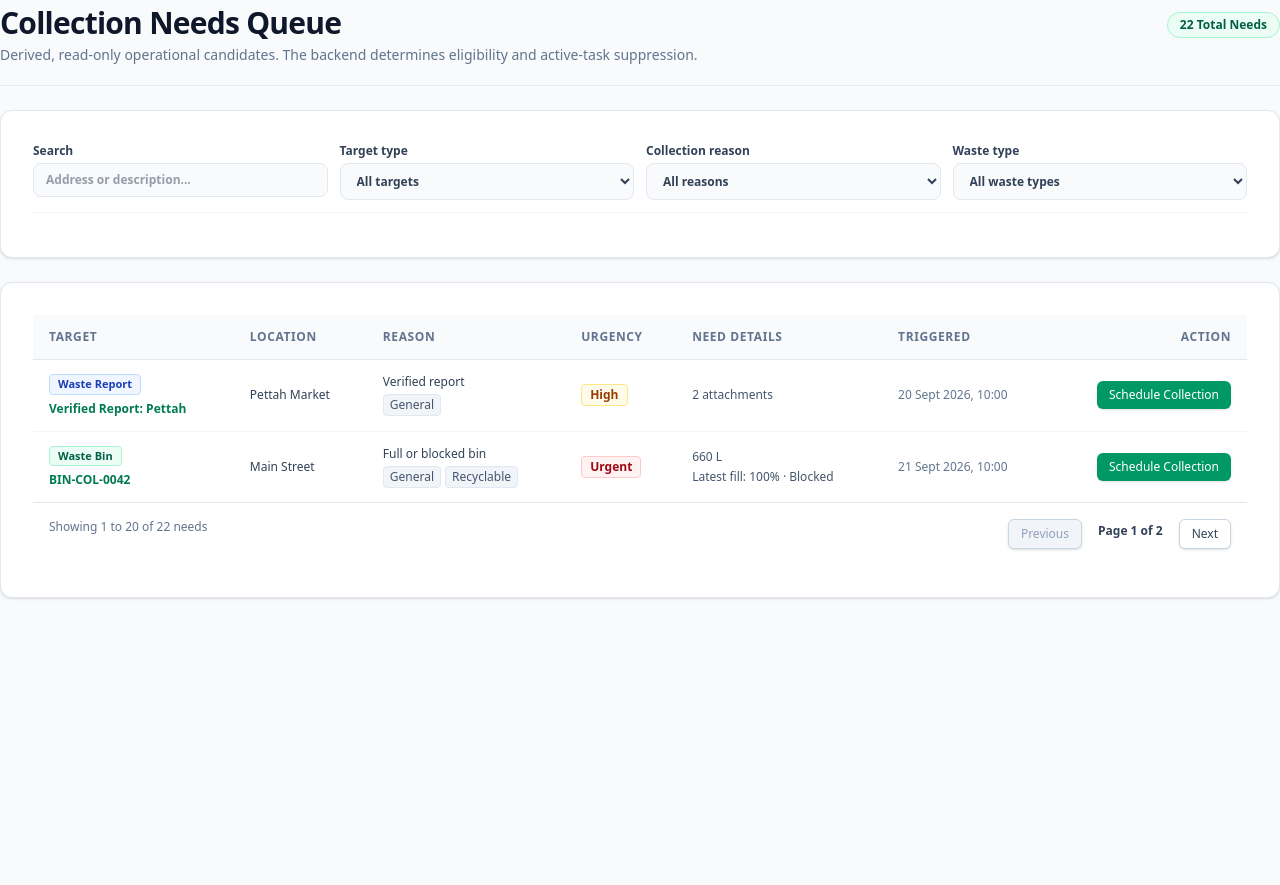
it: CollectionNeedsPage › shows schedule controls only to WasteOfficer and submits a selected bin target in UTC
Click the button with test id "schedule-need-bin-1" at (1164, 467), box [1097,453,1231,481]
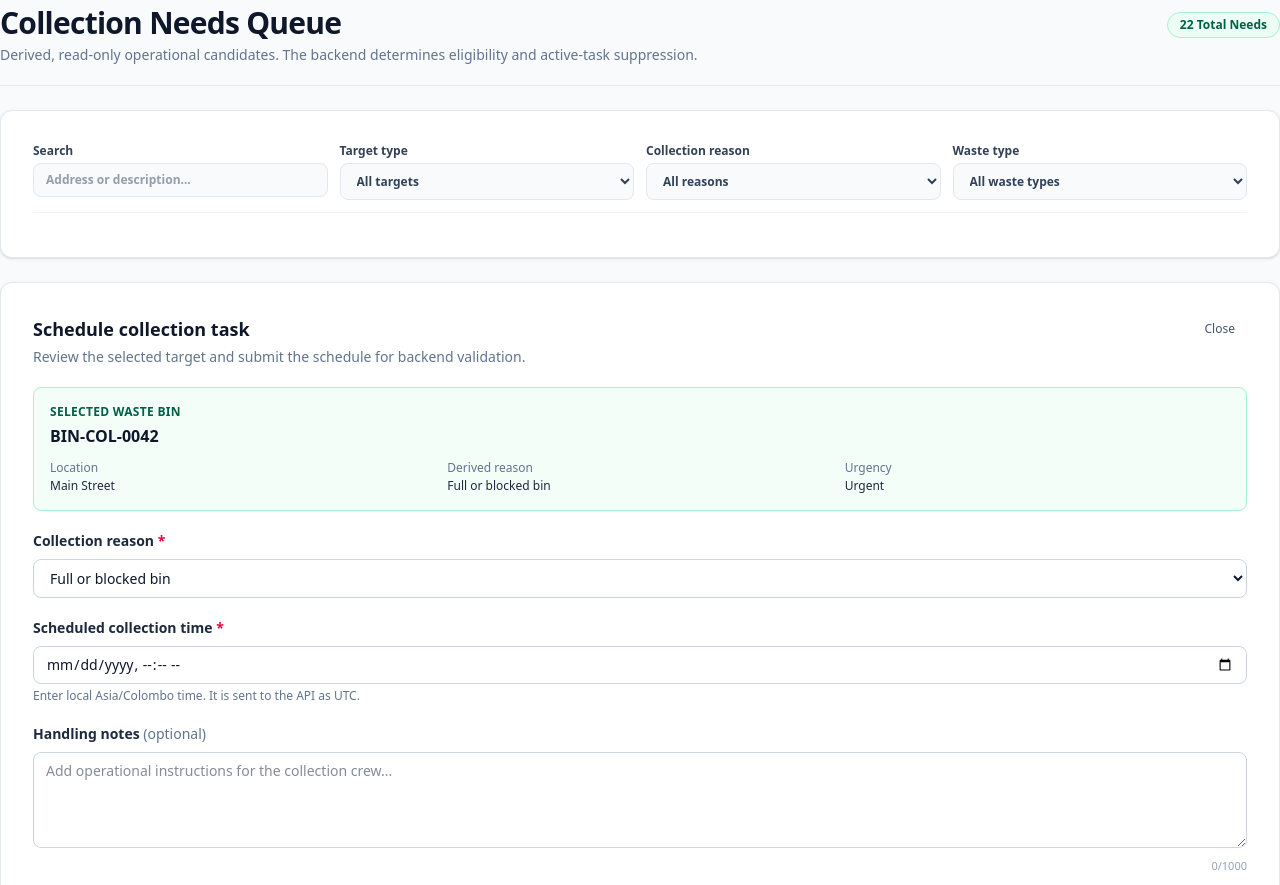
Type "2099-01-01T10:00" into the field labelled "Scheduled collection time *" at (640, 665), box [33,646,1247,684]
(page scrolled)
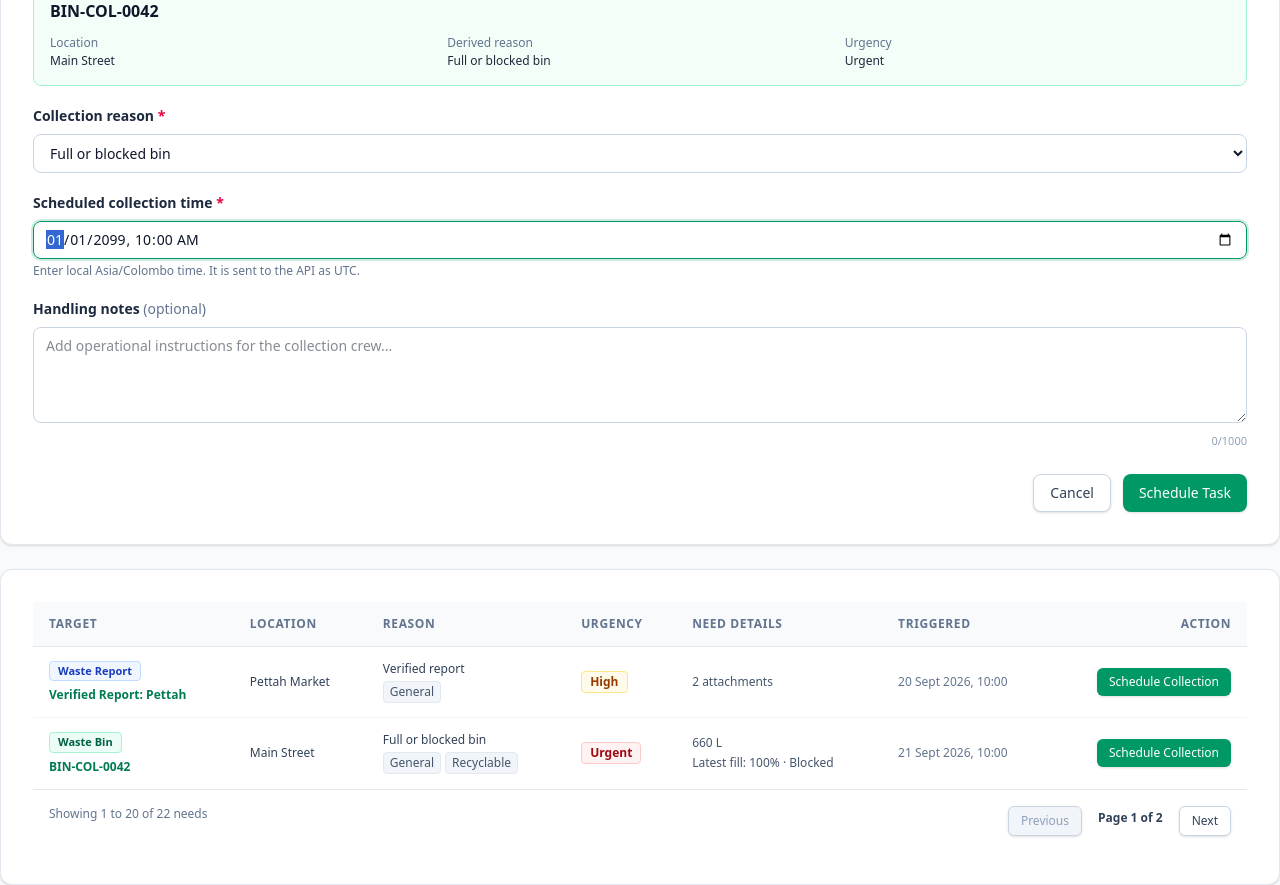
Click the button "Schedule Task" at (1185, 492), box [1123,474,1247,512]
(page scrolled)
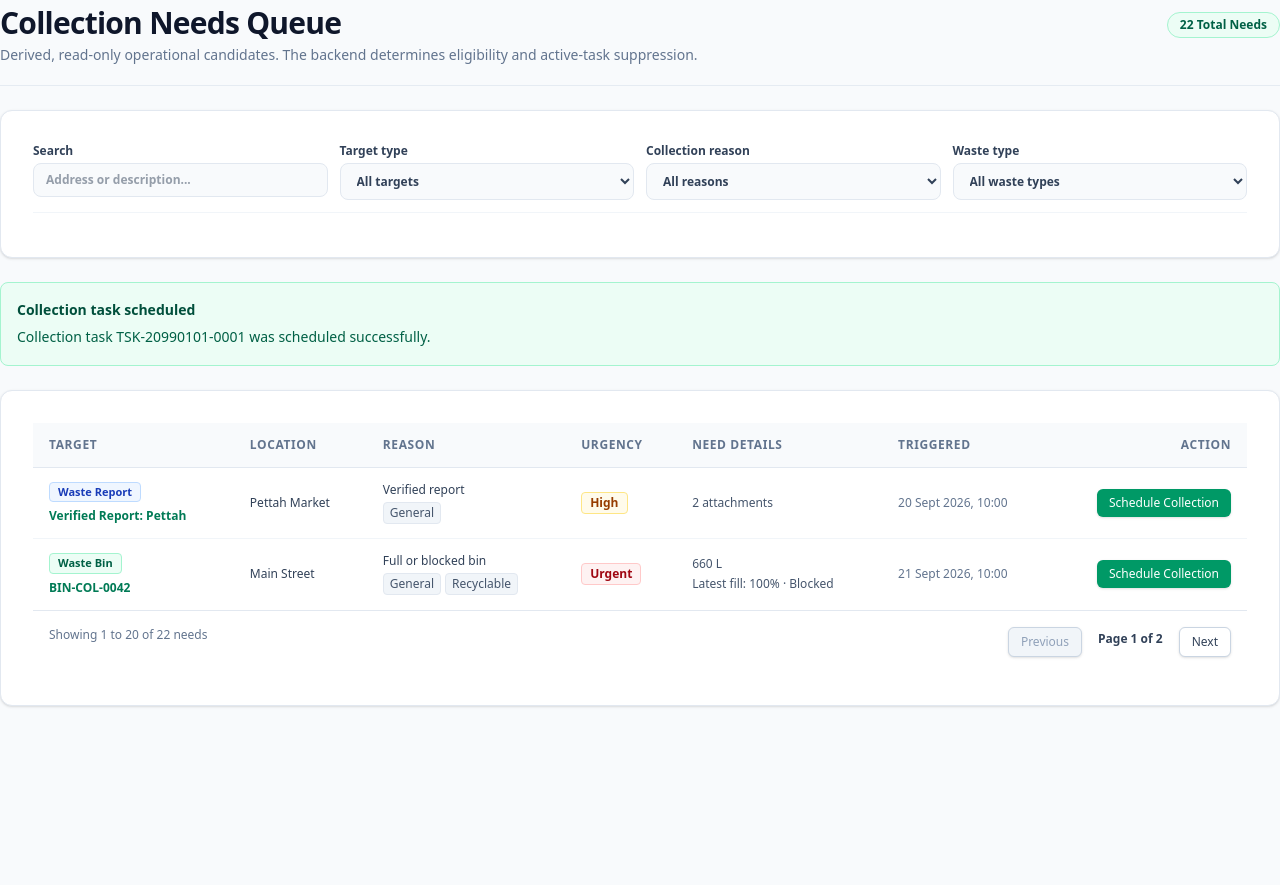
Expected: the text "TSK-20990101-0001 was scheduled successfully" is shown, [17,327,430,346]
